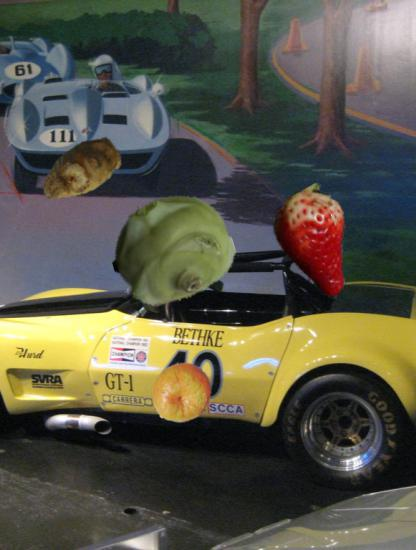Ginger: (37, 127, 125, 215)
Kohlrabi: (111, 188, 233, 310)
Mandarine: (150, 362, 214, 426)
Strawberry: (265, 188, 376, 299)
